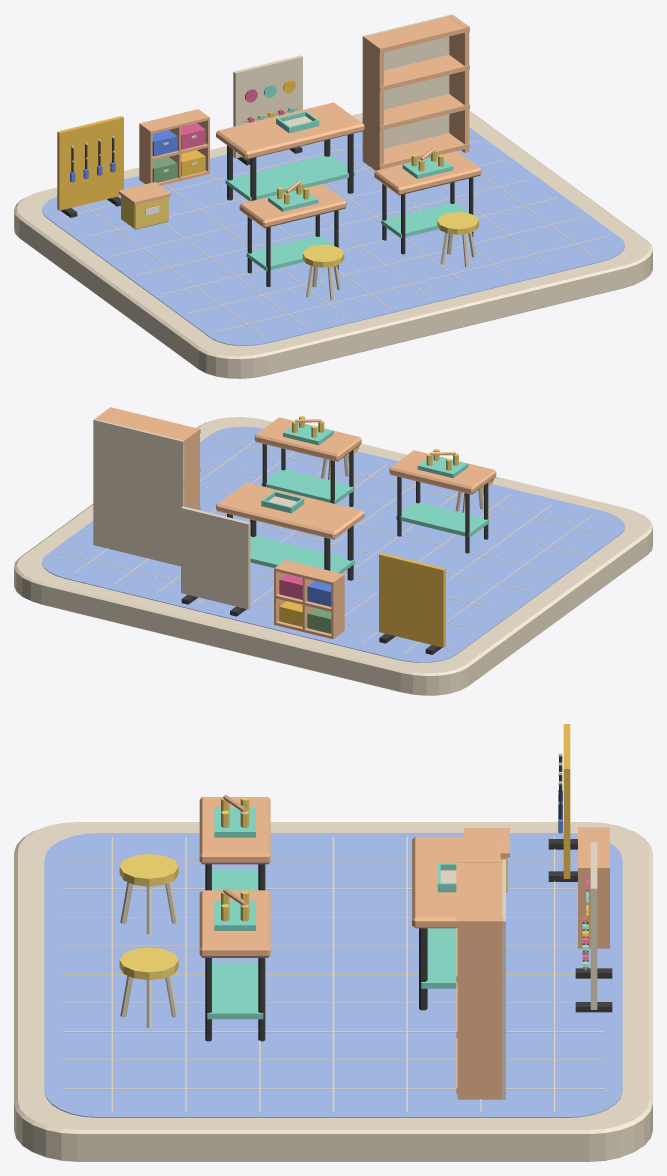
The picture shows the model from 3 angles, top to bottom: view 1: azimuth 30°, elevation 25°; view 2: azimuth 150°, elevation 25°; view 3: azimuth 270°, elevation 25°; orthographic projection. The views are drawn at different scales.
Visible parts, largest first — view 1: COM-02 Floor Surface, COM-01 Rounded Base Direct, Panel, Back, Worktop.002, Panel.001, Lower shelf.002, Side, Worktop.001, Worktop, Side.001, Shelf.003 (+18 smaller); view 2: COM-02 Floor Surface, COM-01 Rounded Base Direct, Back, Panel.001, Panel, Worktop.002, Worktop, Worktop.001, Lower shelf.002, Lower shelf, Lower shelf.001, Shelf.003 (+10 smaller); view 3: COM-02 Floor Surface, COM-01 Rounded Base Direct, Side.001, Worktop.002, Worktop, Worktop.001, Shelf.003, Lower shelf.001, Cubbies divider.002, Lower shelf.002, Seat, Seat.001 (+17 smaller).
Part boxes in pixels (x1=…): COM-02 Floor Surface: x1=42, y1=121, x2=624, y2=345; COM-01 Rounded Base Direct: x1=14, y1=110, x2=652, y2=378; Panel: x1=57, y1=116, x2=123, y2=210; Back: x1=362, y1=14, x2=452, y2=161; Worktop.002: x1=216, y1=102, x2=364, y2=159; Panel.001: x1=233, y1=55, x2=302, y2=158; Lower shelf.002: x1=225, y1=154, x2=354, y2=201; Side: x1=363, y1=35, x2=383, y2=170; Worktop.001: x1=374, y1=151, x2=481, y2=195; Worktop: x1=239, y1=184, x2=346, y2=228; Side.001: x1=449, y1=15, x2=469, y2=152; Shelf.003: x1=367, y1=16, x2=469, y2=53; COM-02 Floor Surface: x1=42, y1=426, x2=624, y2=662; COM-01 Rounded Base Direct: x1=14, y1=417, x2=652, y2=695; Back: x1=93, y1=419, x2=184, y2=566; Panel.001: x1=181, y1=506, x2=250, y2=609; Panel: x1=379, y1=553, x2=445, y2=647; Worktop.002: x1=216, y1=482, x2=364, y2=539; Worktop: x1=389, y1=450, x2=496, y2=494; Worktop.001: x1=254, y1=417, x2=361, y2=461; Lower shelf.002: x1=250, y1=536, x2=354, y2=573; Lower shelf: x1=396, y1=501, x2=489, y2=537; Lower shelf.001: x1=261, y1=469, x2=354, y2=503; Shelf.003: x1=100, y1=407, x2=200, y2=445; COM-02 Floor Surface: x1=44, y1=833, x2=622, y2=1117; COM-01 Rounded Base Direct: x1=14, y1=822, x2=652, y2=1161; Side.001: x1=457, y1=918, x2=504, y2=1099; Worktop.002: x1=412, y1=836, x2=500, y2=928; Worktop: x1=199, y1=797, x2=270, y2=864; Worktop.001: x1=199, y1=890, x2=270, y2=957; Shelf.003: x1=456, y1=859, x2=505, y2=927; Lower shelf.001: x1=207, y1=962, x2=263, y2=1019; Cubbies divider.002: x1=578, y1=868, x2=609, y2=948; Lower shelf.002: x1=421, y1=928, x2=456, y2=988; Seat: x1=119, y1=854, x2=178, y2=886; Seat.001: x1=119, y1=947, x2=178, y2=979.
Size of the model in its own units: 6 by 1.9 by 5.2.
Materials: 1 (1 with a texture image).
